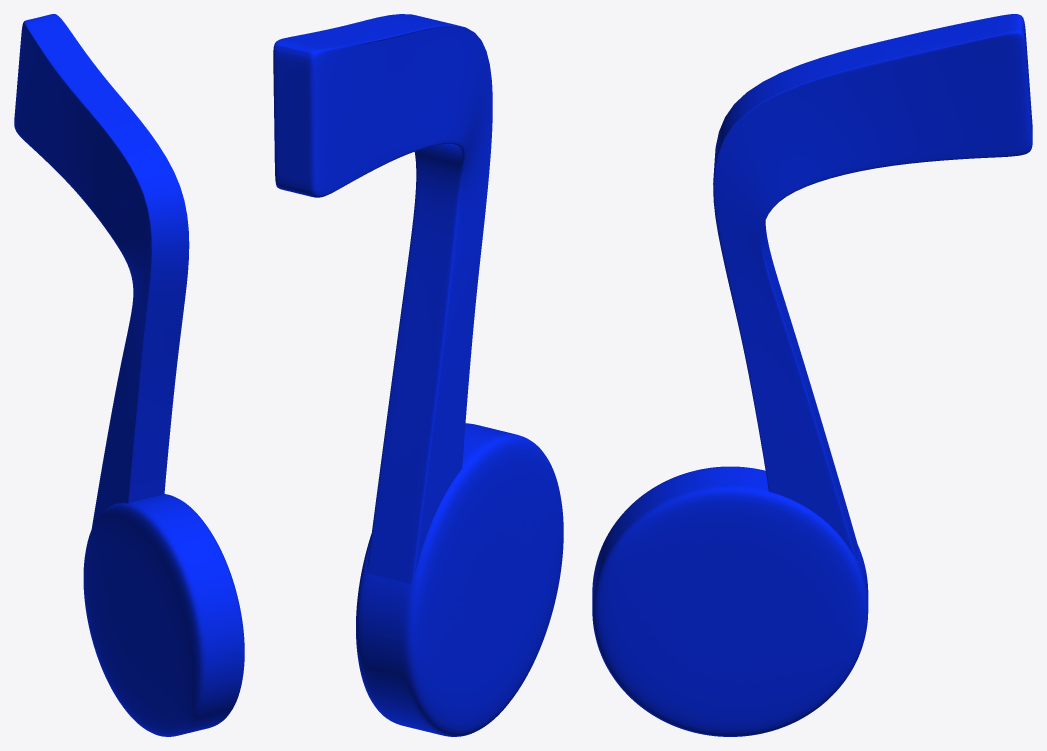
Rendered from Note.fbx.
3 views of the same model, side by side, from view 1: azimuth 30°, elevation 25°; view 2: azimuth 150°, elevation 25°; view 3: azimuth 270°, elevation 25° (orthographic). The views are drawn at different scales.
Parts seen in each view (by area): view 1: Cube.008; view 2: Cube.008; view 3: Cube.008.
Part boxes in pixels (x1,y1,x2,y2): Cube.008: [14, 14, 244, 736]; Cube.008: [273, 14, 563, 736]; Cube.008: [592, 14, 1032, 736].
Bounding box in the file's own units: 9.45 × 106 × 59.8.
